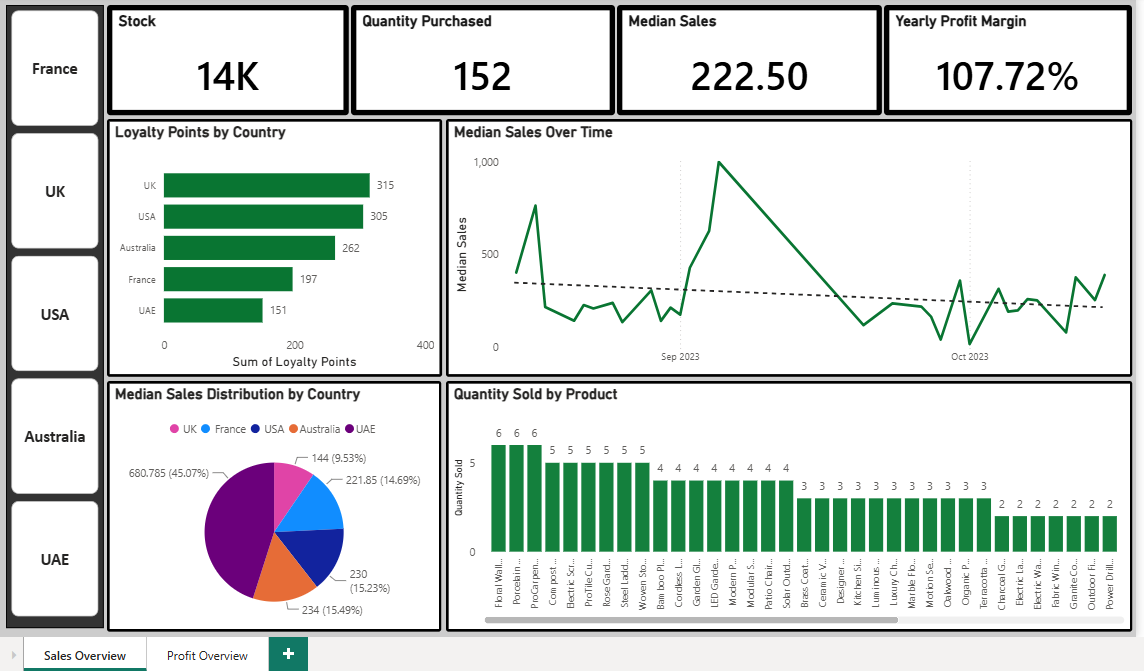

The page's visual inventory and layout, read from the dashboard file:
{"tool":"powerbi","page":{"name":"Sales Overview ","canvas":[1280,720],"ordinal":0},"visuals":[{"type":"clusteredBarChart","title":"Loyalty Points by Country","fields":{"Category":["Sales in USD.Country Name"],"Y":["Sum(Sales in USD. Loyalty Points)"]},"box":[121.5,137.2,377,290],"z":0},{"type":"clusteredColumnChart","title":"Quantity Sold by Product","fields":{"Category":["Sales in USD.Product Name"],"Y":["Sum(Sales in USD.Quantity Purchased)"]},"box":[502.9,432,772,282],"z":1000},{"type":"pieChart","title":"Median Sales Distribution by Country","fields":{"Category":["Sales in USD.Country Name"],"Y":["Sales in USD.Median Sales"]},"box":[121.5,432,376,282],"z":2000},{"type":"lineChart","title":"Median Sales Over Time","fields":{"Y":["Sales in USD.Median Sales"],"Category":["Purchases. Purchase Date"]},"box":[502.9,137.2,772,290],"z":3000},{"type":"cardVisual","title":"Stock","fields":{"Data":["Sum(Sales. Stock  )"]},"box":[121.5,9,272,124],"z":4000},{"type":"cardVisual","title":"Quantity Purchased","fields":{"Data":["Sum(Sales in USD.Quantity Purchased)"]},"box":[396,9,297,124],"z":5000},{"type":"cardVisual","title":"Median Sales","fields":{"Data":["Sales in USD.Median Sales"]},"box":[695.2,9,298,124],"z":6000},{"type":"advancedSlicerVisual","fields":{"Values":["Sales in USD.Country Name"]},"box":[7.9,9,110,700.9],"z":7000},{"type":"cardVisual","title":"Yearly Profit Margin","fields":{"Data":["Sales in USD.Yearly Profit Margin"]},"box":[995.6,9,279,124],"z":8000}]}

Visuals, with their boxes in screenshot pixels (x1, y1, x2, y2):
"Loyalty Points by Country" clusteredBarChart: 107,118,439,374
"Quantity Sold by Product" clusteredColumnChart: 443,378,1124,626
"Median Sales Distribution by Country" pieChart: 107,378,438,626
"Median Sales Over Time" lineChart: 443,118,1124,374
"Stock" cardVisual: 107,5,347,114
"Quantity Purchased" cardVisual: 349,5,611,114
"Median Sales" cardVisual: 613,5,875,114
advancedSlicerVisual - Sales in USD.Country Name: 7,5,104,623
"Yearly Profit Margin" cardVisual: 878,5,1123,114
